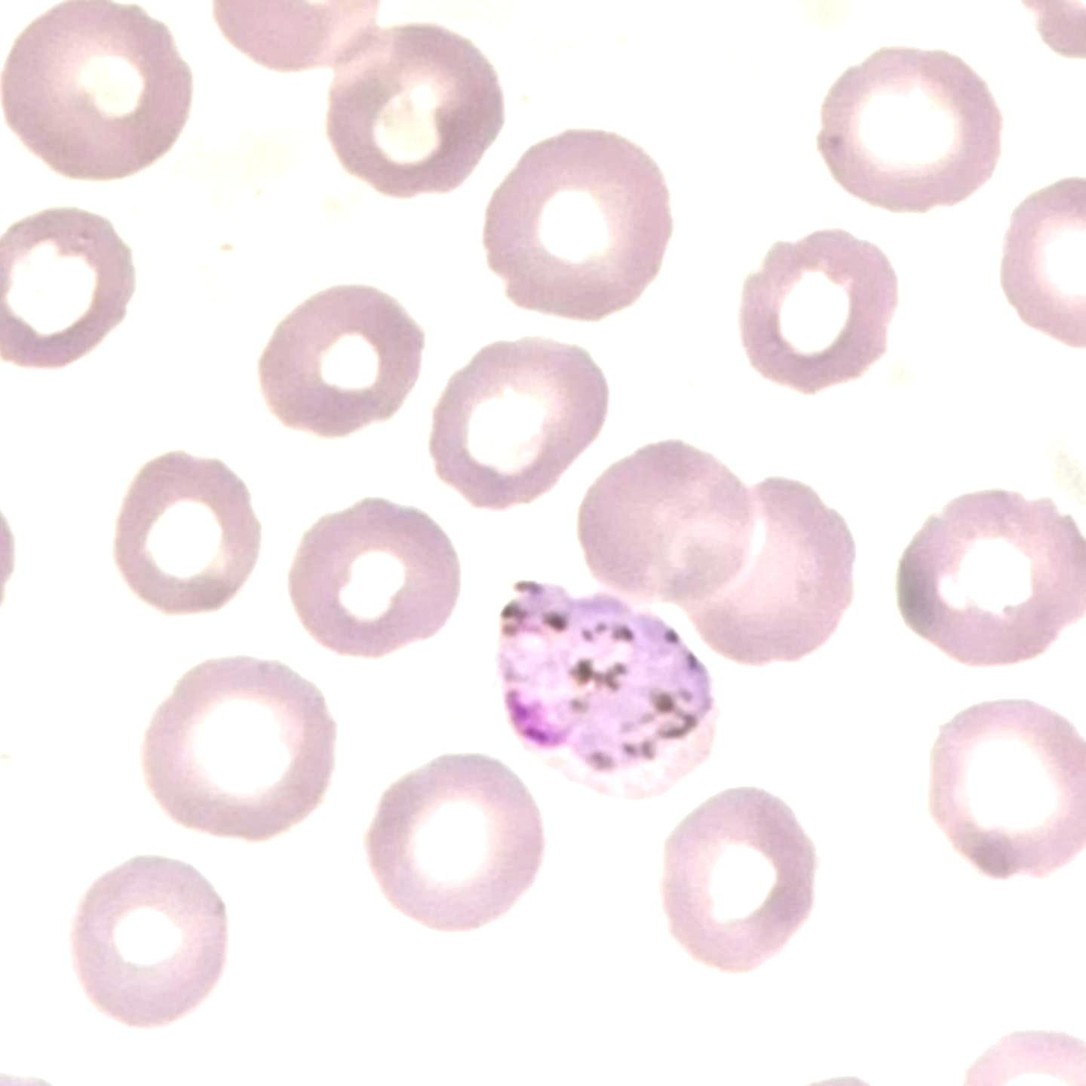Infected: (493, 564, 717, 804)
Uninfected: (136, 657, 335, 841), (488, 127, 672, 325), (890, 481, 1084, 663), (0, 0, 191, 175), (322, 28, 504, 204), (362, 755, 545, 930), (571, 438, 751, 610), (809, 49, 1001, 209), (63, 851, 226, 1034), (684, 481, 845, 663), (923, 700, 1076, 885), (427, 338, 597, 502), (739, 220, 890, 400), (287, 499, 464, 652), (111, 458, 273, 618), (661, 795, 813, 965), (264, 277, 419, 430), (0, 212, 132, 370)
